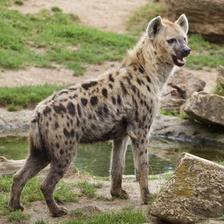hyena: (9, 7, 221, 224)
